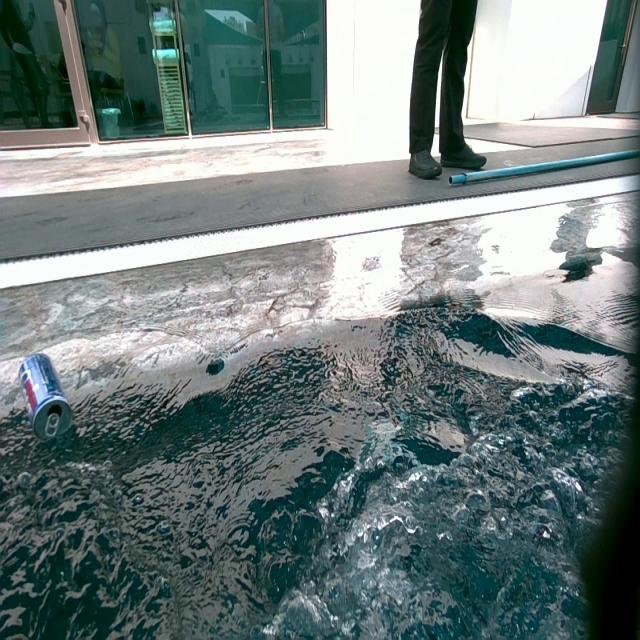Cans: (17, 349, 74, 445)
